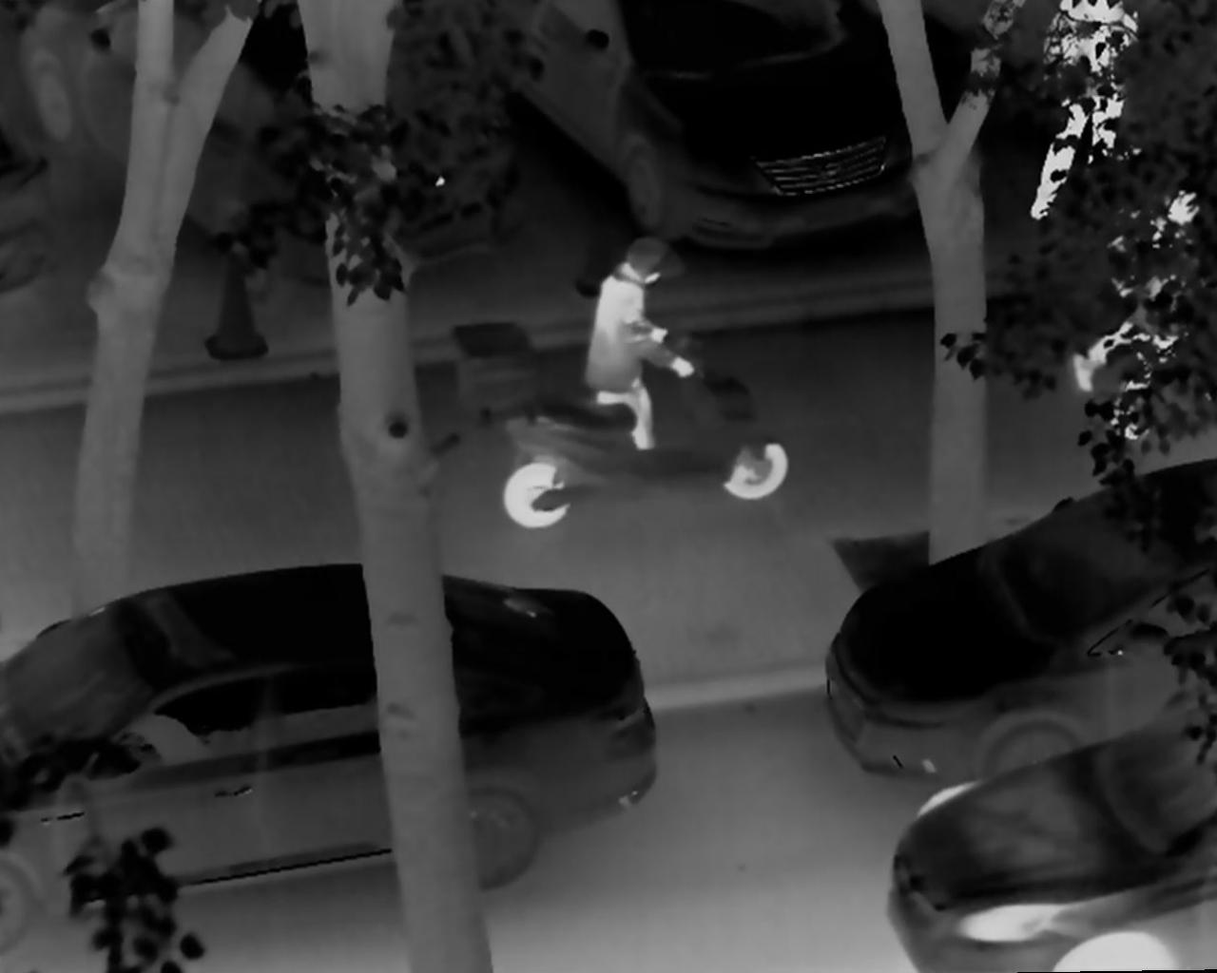person: (1070, 179, 1217, 394), (1108, 181, 1217, 440), (576, 237, 696, 452)
